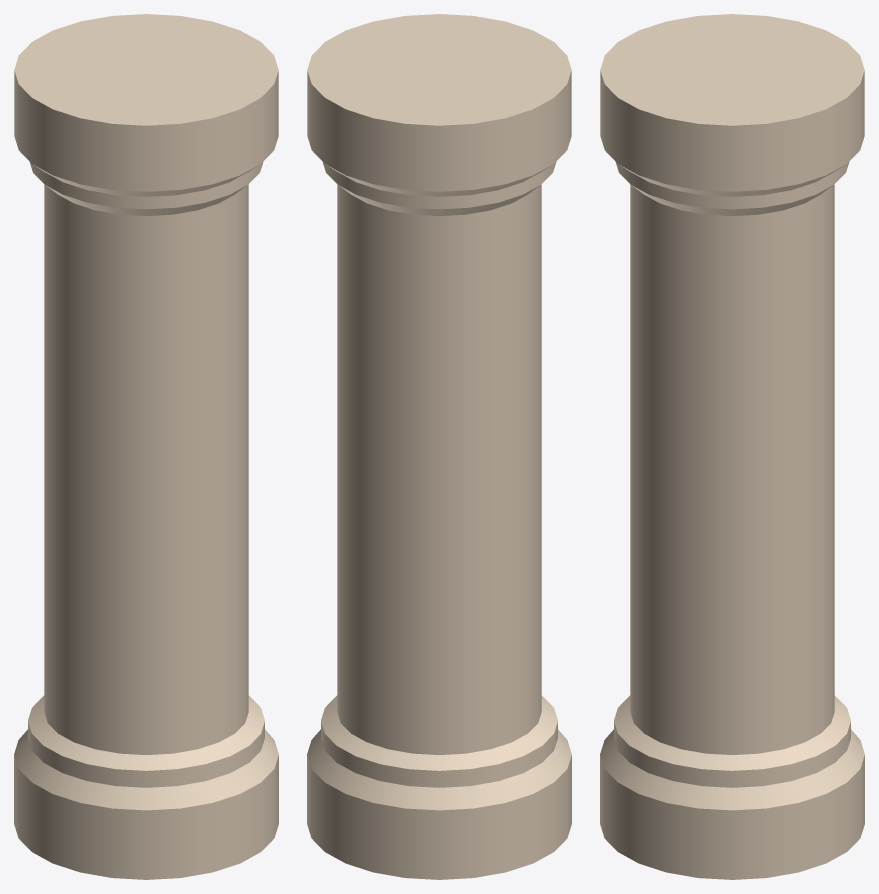
File: BC_WindowDeco_A_04.fbx
The picture shows the model from 3 angles, left to right: view 1: azimuth 30°, elevation 25°; view 2: azimuth 150°, elevation 25°; view 3: azimuth 270°, elevation 25°; orthographic projection.
Parts seen in each view (by area): view 1: BC_WindowDeco_A_04; view 2: BC_WindowDeco_A_04; view 3: BC_WindowDeco_A_04.
Boxes of the visible parts, left/top/right/bottom form: BC_WindowDeco_A_04: left=14, top=14, right=278, bottom=879; BC_WindowDeco_A_04: left=307, top=14, right=571, bottom=879; BC_WindowDeco_A_04: left=600, top=14, right=864, bottom=879.
Size of the model in its own units: 34.4 by 108 by 34.4.
